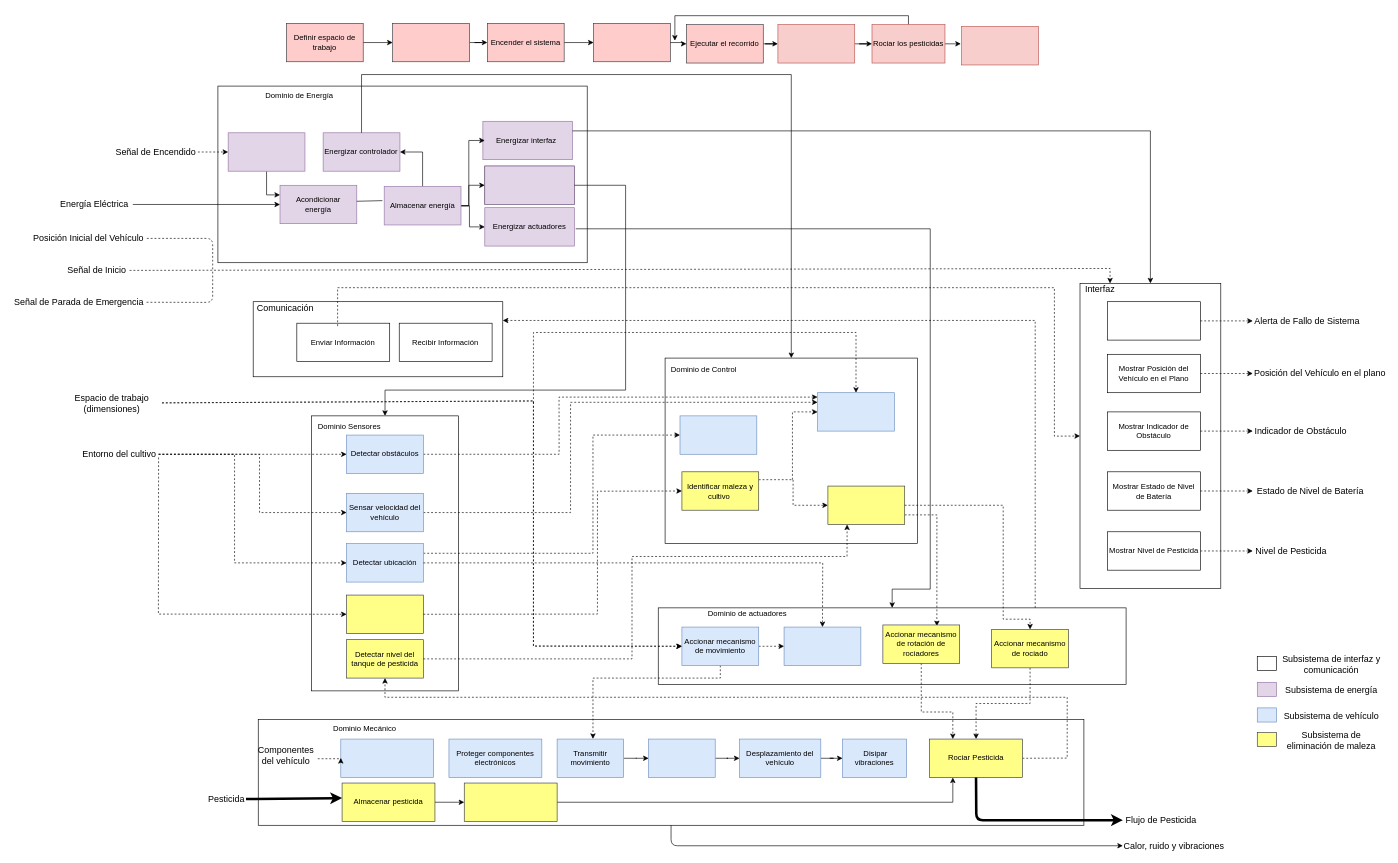
Image size: 1398x863. Some labels were removed from this diagram. The centre of each missing label's shape, as x and y in pixels:
Accionar indicador de fin de recorrido: (822,645)
Capturar imagenes de cultivo: (384,613)
Control de Posición del vehículo: (855,411)
Control de Rociado: (866,504)
Cálculo de trayectoria: (718,434)
Definir posición inicial: (430,42)
Diferenciar entre maleza y cultivos: (816,43)
Dirigir vehículo: (681,757)
Encendido del sistema: (266,151)
Energizar sensores: (529,184)
Enviar alerta de término de recorrido: (999,45)
Identificar camino a seguir: (631,42)
Mostrar Alerta de Fallo de Sistema: (1153,320)
Soportar componentes (estructura): (387,757)
Transportar pesticida: (510,801)
